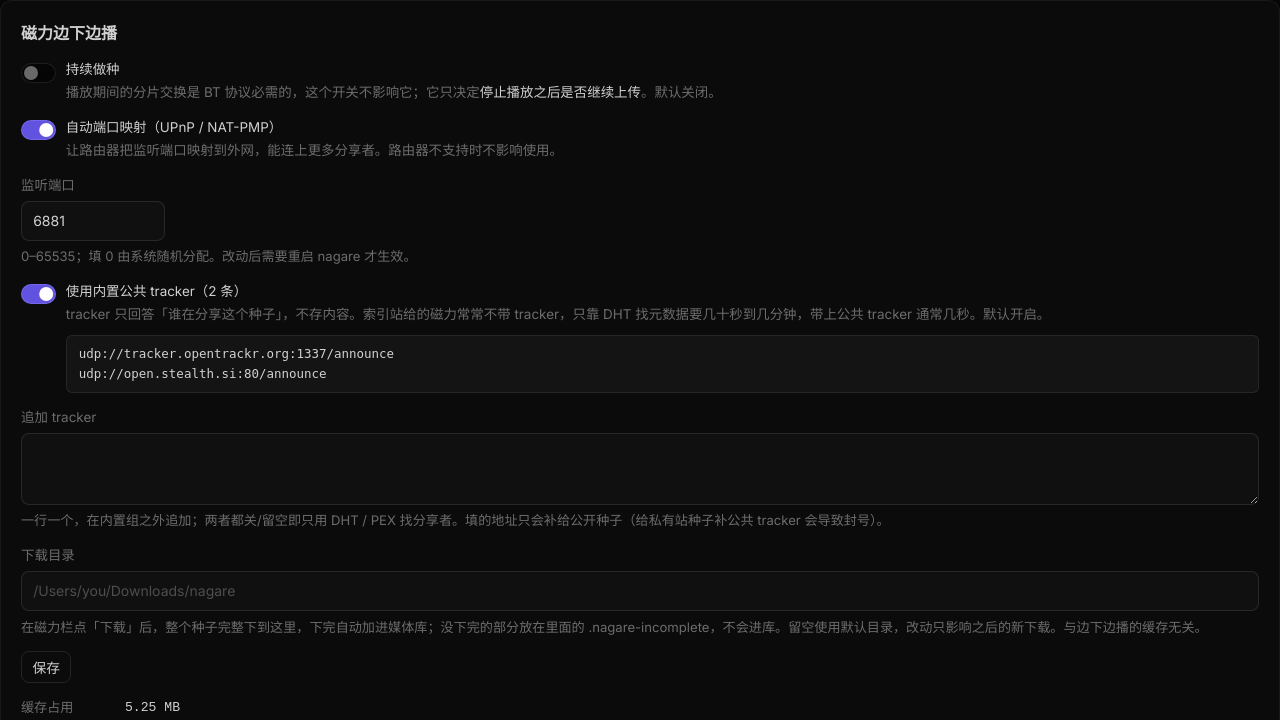
TorrentCard · 受控行为 › 拨动开关立即反映在 aria-checked 上，并提示「有未保存的改动」
The image size is (1280, 720).
Click the switch named "持续做种": [39, 73] box [21,63,56,83]
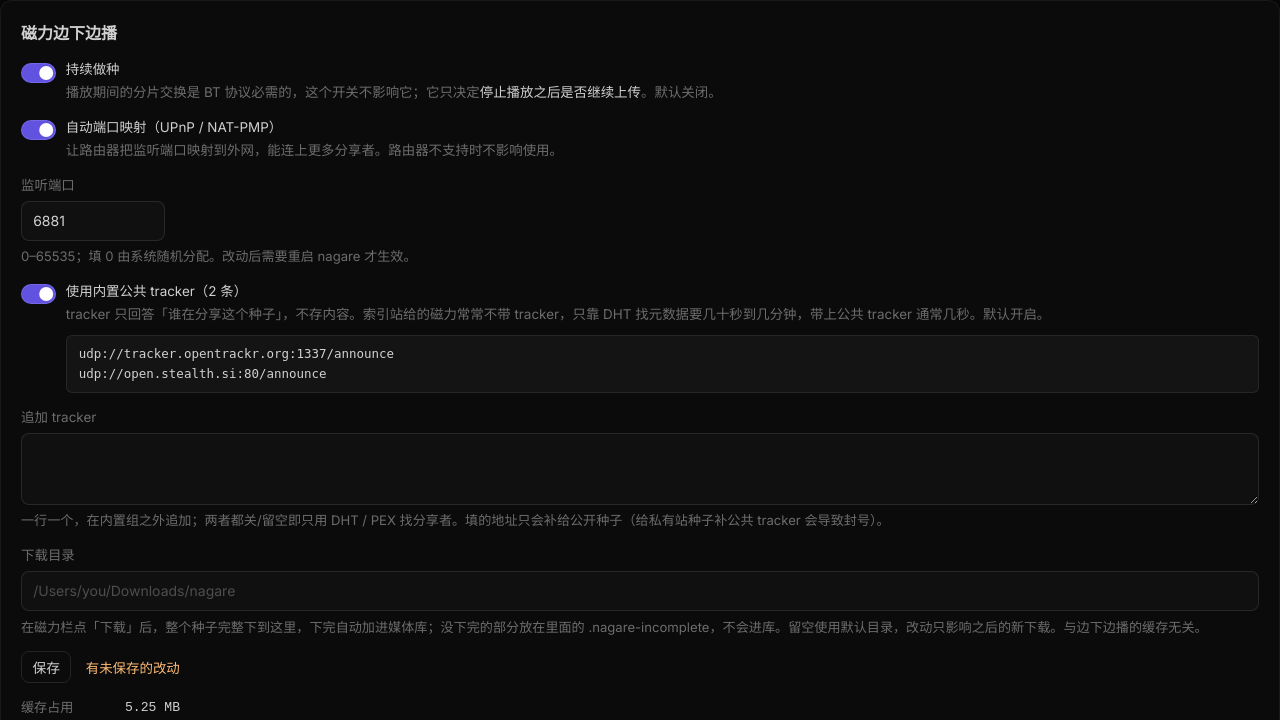
Now the text with class "torrent-dirty" reads "有未保存的改动", box [86,660,180,676]
